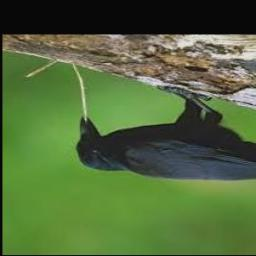Crow: (75, 85, 256, 182)
